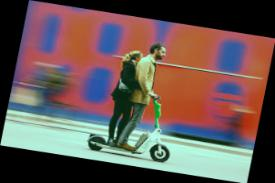multiple: (82, 34, 194, 165)
